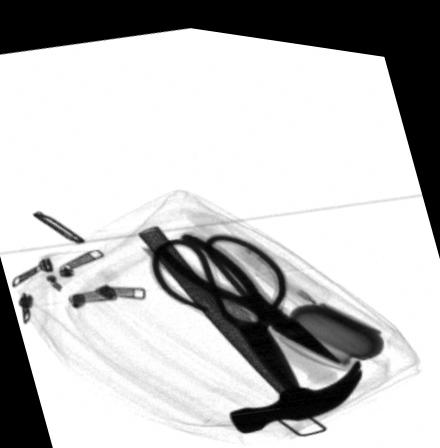Hammer: (136, 219, 364, 426)
Knife: (139, 241, 338, 378)
Pliers: (154, 225, 344, 353)
Scissors: (150, 227, 307, 397)
